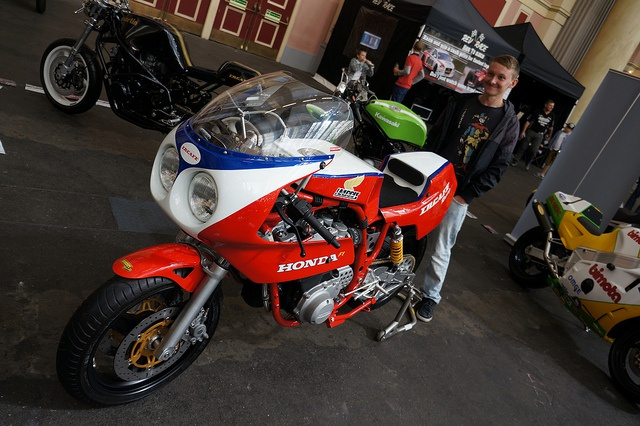non-vehicle: (56, 68, 458, 408), (39, 0, 266, 135), (507, 190, 639, 403)
